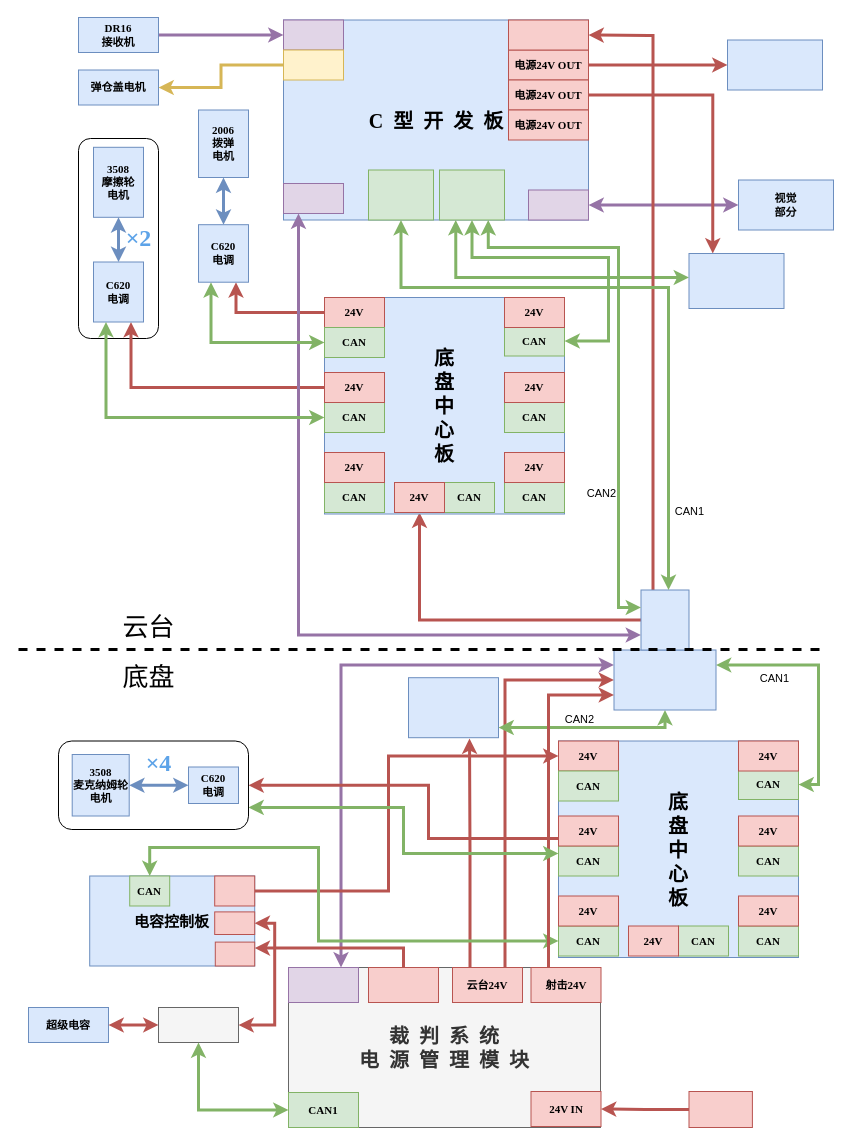
Image size: 851x1145. Some labels were removed from this diagram. The shapes that lost their labels are listed below. From the top down, each one's centre as x and y in pixels, then its label:
At (313,34): "DBUS".
At (548,34): "电源24V IN".
At (313,64): "PWM".
At (774,64): "荧光充能 装置".
At (313,198): "UART1".
At (401,194): "2PIN CAN1 ×2".
At (471,194): "4PIN CAN2 ×2".
At (558,204): "UART6".
At (736,280): "PITCH轴 6020电机".
At (664,619): "滑环（上）".
At (664,679): "滑环（下）".
At (453,707): "YAW轴 6020电机".
At (234,890): "OUT".
At (234,922): "CAP".
At (234,953): "IN".
At (323,984): "UART".
At (403,984): "底盘24V".
At (198,1024): "裁判系统 电容管理".
At (720,1109): "电池".
